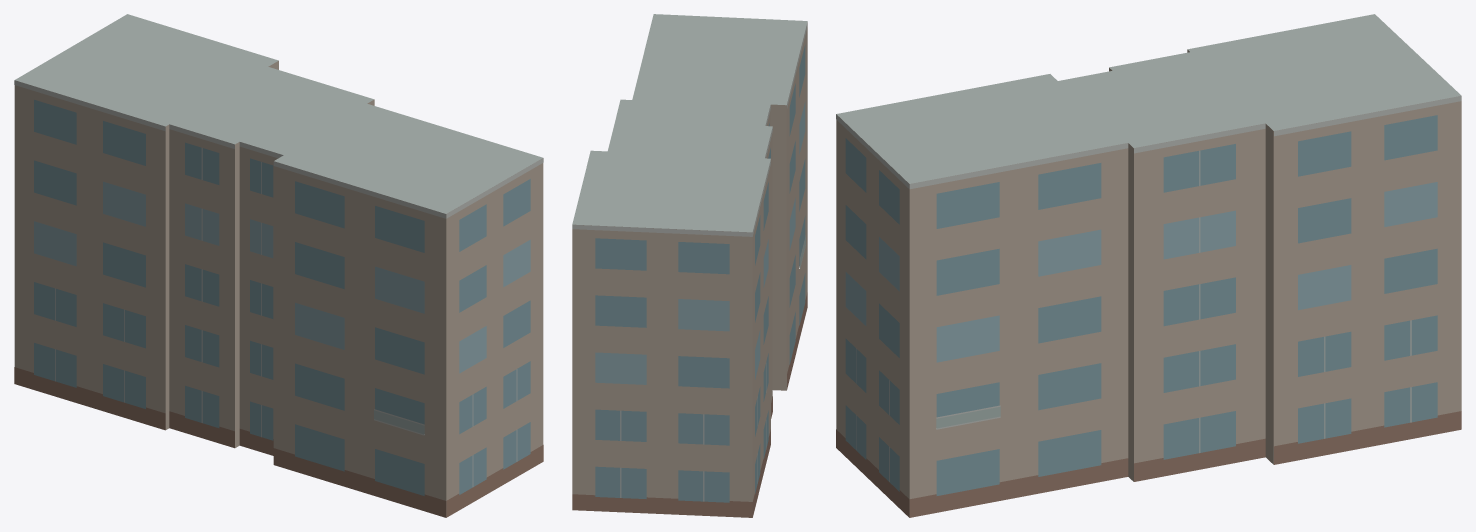
The model's file is survey-upis-32587605.glb.
3 renders of one model, left to right at view 1: azimuth 30°, elevation 25°; view 2: azimuth 150°, elevation 25°; view 3: azimuth 270°, elevation 25°, orthographic. The views are drawn at different scales.
Parts seen in each view (by area): view 1: survey-upis-32587605.tmp; view 2: survey-upis-32587605.tmp; view 3: survey-upis-32587605.tmp.
Part boxes in pixels (x1,y1,x2,y2): survey-upis-32587605.tmp: (14,14,543,517); survey-upis-32587605.tmp: (572,14,807,517); survey-upis-32587605.tmp: (836,14,1461,517).
Size of the model in its own units: 16.67 by 15.25 by 25.9.
